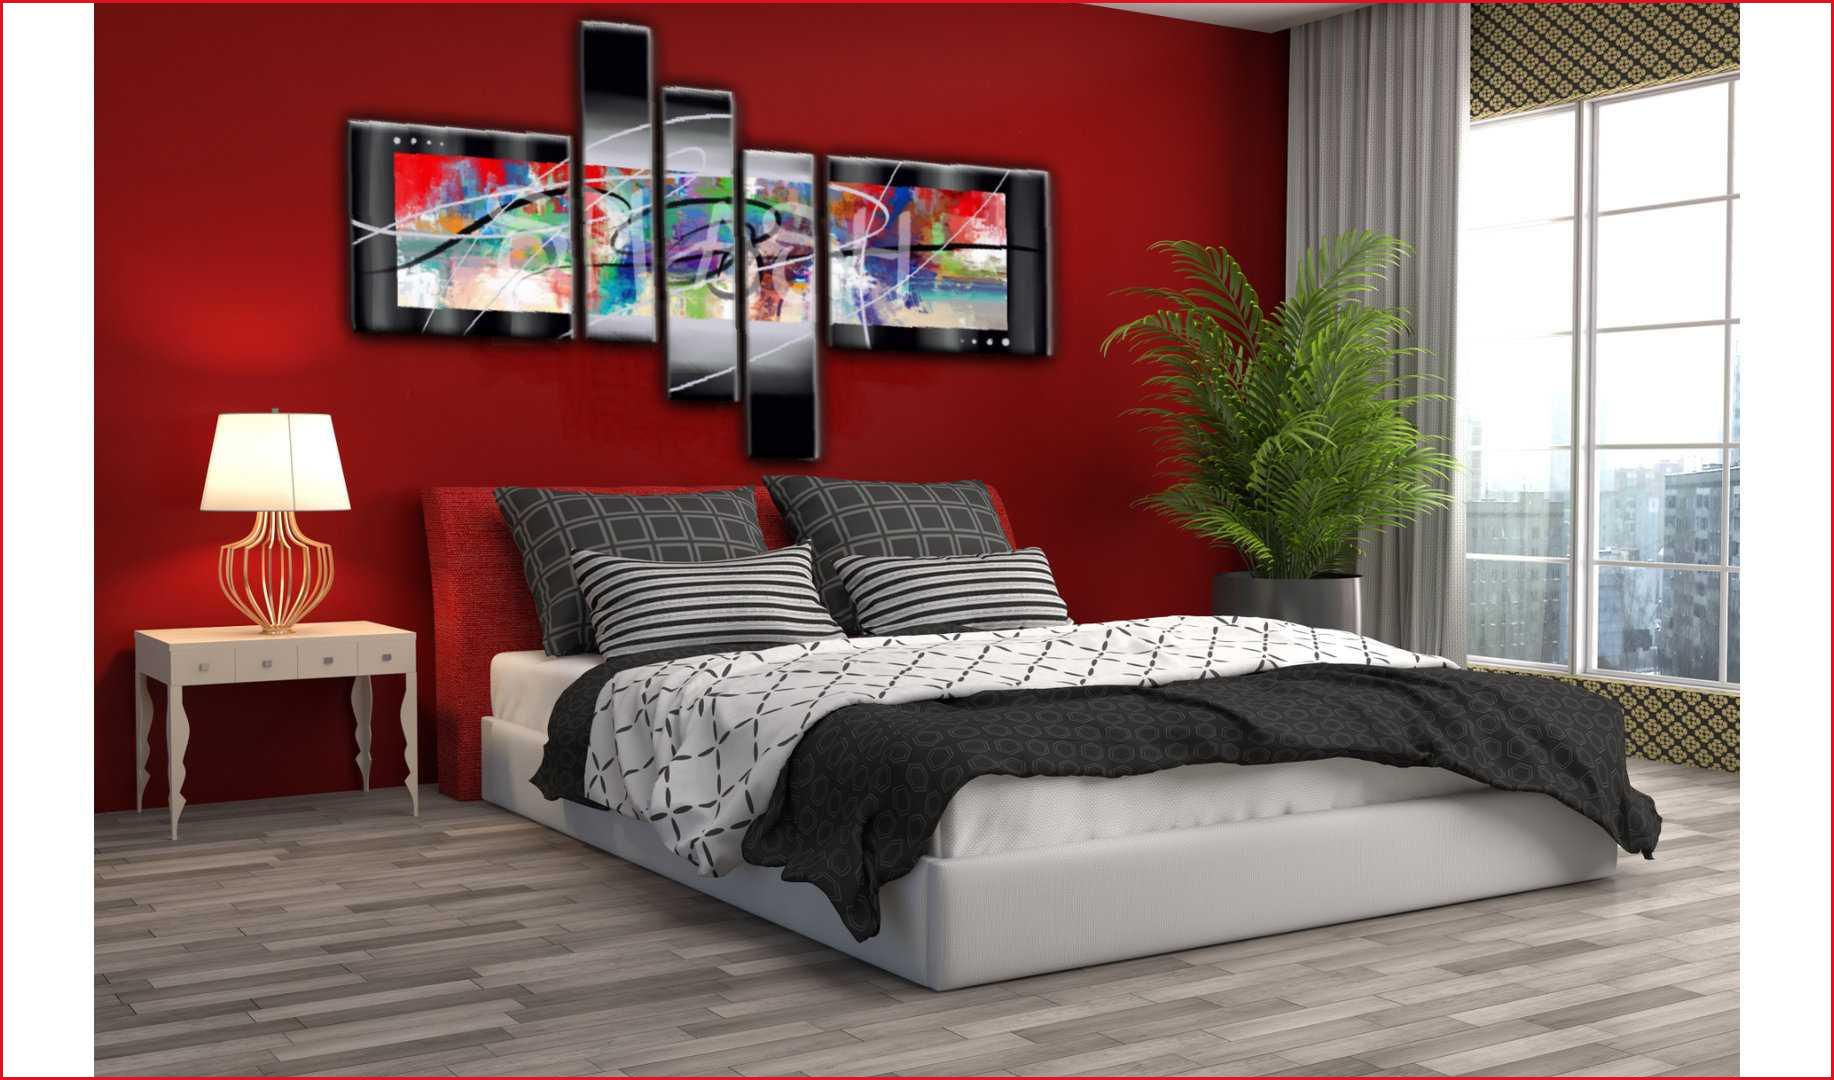bed: (508, 415, 1515, 945)
